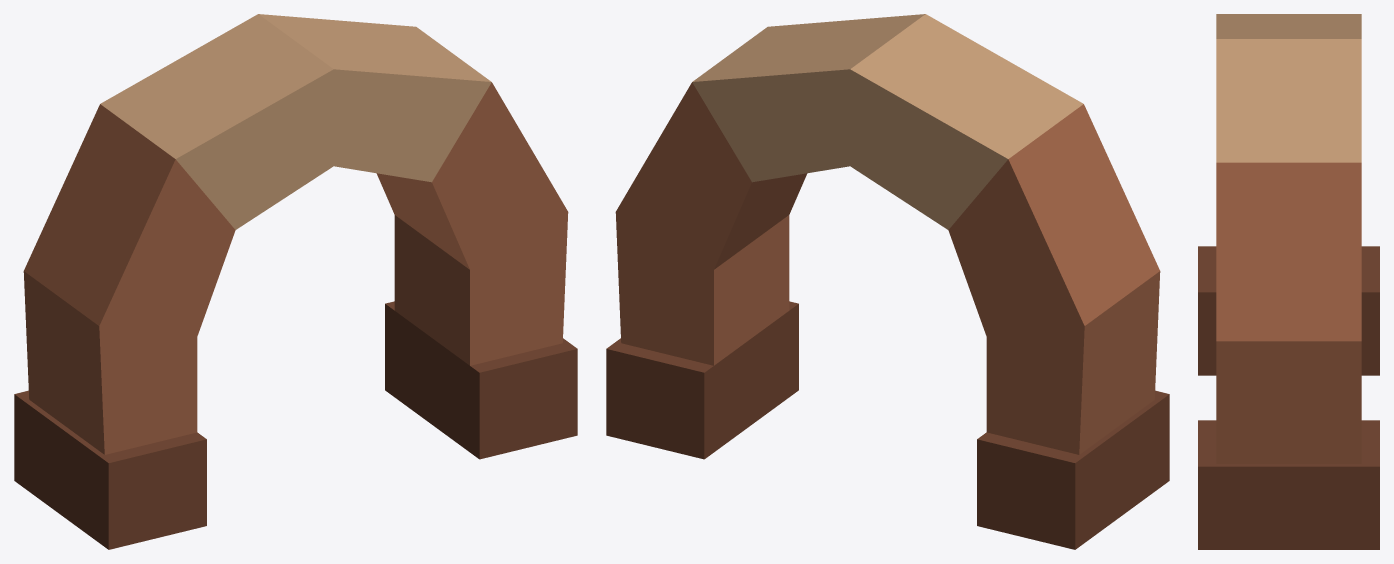
The model's file is Desert_RockArch_Standard.glb.
3 views of the same model, side by side, from view 1: azimuth 30°, elevation 25°; view 2: azimuth 150°, elevation 25°; view 3: azimuth 270°, elevation 25° (orthographic). The views are drawn at different scales.
Visible parts, largest first — view 1: Desert_RockArch_Standard; view 2: Desert_RockArch_Standard; view 3: Desert_RockArch_Standard.
Part boxes in pixels (left/top/right/bottom): Desert_RockArch_Standard: left=14, top=14, right=577, bottom=549; Desert_RockArch_Standard: left=606, top=14, right=1169, bottom=549; Desert_RockArch_Standard: left=1198, top=14, right=1379, bottom=549.
Bounding box in the file's own units: 4.3 × 3.65 × 1.5.
